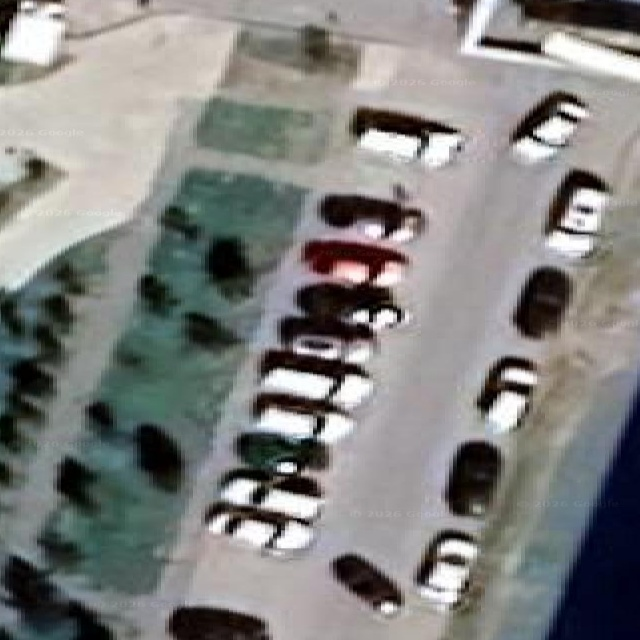car: (351, 107, 463, 167), (260, 350, 372, 408), (296, 281, 409, 331), (544, 169, 608, 256), (219, 467, 322, 520), (512, 91, 587, 163), (203, 503, 312, 552), (0, 553, 77, 620), (253, 392, 352, 444), (319, 193, 424, 240), (301, 240, 407, 286), (416, 532, 477, 611), (476, 356, 535, 432), (280, 316, 375, 363), (332, 553, 400, 615), (444, 440, 500, 515), (512, 267, 572, 337), (3, 0, 65, 67), (233, 431, 328, 472), (167, 604, 270, 639), (19, 0, 64, 19), (0, 0, 20, 37), (85, 615, 108, 635), (449, 0, 473, 19), (43, 3, 64, 20), (19, 0, 35, 11), (3, 0, 11, 8), (84, 608, 88, 612), (22, 0, 23, 4), (35, 633, 36, 635)
